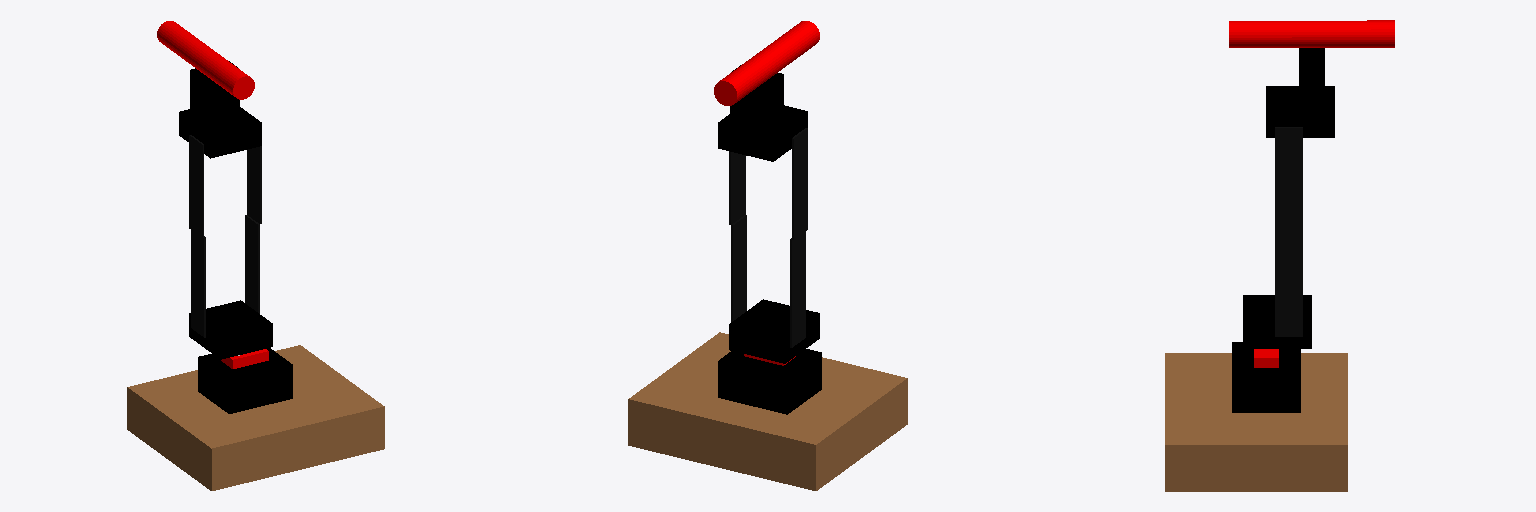
robot.urdf — arthrobot:
<?xml version="1.0"?>
<robot name = "arthrobot">

<!-- This is the first link: empty link specifying the world -->
<link name="world"></link>

<!--This is the joint that links the robot's base to the world frame -->
<joint name="world_base_joint" type="fixed">
    <origin xyz="0.0 0.0 0.0" rpy="0.0 0.0 0.0"/>
    <parent link="world"/>
    <child link="base_link"/>
</joint>
    
<!-- The base link (wooden frame and the metalic support)-->
<link name="base_link">
    <visual>
        <origin xyz="0.0 0.0 0.0225" rpy="0.0 0.0 0.0"/>
        <geometry>
            <box size="0.19 0.16 0.045"/>
        </geometry>
        <material name="wood">
            <color rgba="0.64 0.454 0.286 1.0"/>
        </material>
    </visual>
    <collision>
        <origin xyz="0.0 0.0 0.00225" rpy="0.0 0.0 0.0"/>
        <geometry>
            <box size="0.19 0.16 0.045"/>
        </geometry>
    </collision>

     <visual>
        <origin xyz="-0.007 0.0085 0.063" rpy="0.0 0.0 0.0"/>
        <geometry>
            <box size="0.07 0.06 0.036"/>
        </geometry>
        <material name="black">
            <color rgba="0.0001 0.0001 0.0001 1.0"/>
        </material>
    </visual>
    <collision>
        <origin xyz="-0.007 0.0085 0.063" rpy="0.0 0.0 0.0"/>
        <geometry>
            <box size="0.07 0.06 0.036"/>
        </geometry>
    </collision>
</link>

<!-- Joint that attaches the base with motor 1-->
<joint name="base_motor1_joint" type="fixed">
    <origin xyz="-0.007 0.0085 0.081" rpy="0.0 0.0 0.0"/>
    <parent link="base_link"/>
    <child link="motor1_link"/>
</joint>

<!--Motor 1 link-->
<link name="motor1_link">
    <visual>
        <origin xyz="0.0 0.0 0.005" rpy="0.0 0.0 0.0"/>
        <geometry>
            <box size="0.04 0.022 0.01"/>
        </geometry>
        <material name="red">
            <color rgba="1.0 0.0 0.0 1.0"/>
        </material>
    </visual>
    <collision>
        <origin xyz="0.0 0.0 0.005" rpy="0.0 0.0 0.0"/>
        <geometry>
            <box size="0.04 0.022 0.01"/>
        </geometry>
    </collision>

    <visual>
        <origin xyz="-0.01 0.0 0.014" rpy="0.0 0.0 0.0"/>
        <geometry>
            <cylinder radius="0.006" length="0.008"/>
        </geometry>
        <material name="white">
            <color rgba="1.0 1.0 1.0 1.0"/>
        </material>
    </visual>
    <collision>
        <origin xyz="-0.01 0.0 0.004" rpy="0.0 0.0 0.0"/>
        <geometry>
            <cylinder radius="0.006" length="0.008"/>
        </geometry>
    </collision>
</link>

<!--Joint between motor 1 and motor 2-->
<joint name="motor1_motor2_joint" type="revolute">
    <origin xyz="-0.01 0.0 0.018" rpy="0.0 0.0 0.0"/>
    <parent link="motor1_link"/>
    <child link="motor2_link"/>
    <axis xyz="0.0 0.0 1.0"/>
    <limit lower="-3.1415" upper="3.1415" effort="100" velocity="80"/>
</joint>

<!--Motor 2 link-->
<link name="motor2_link">
    <visual>
        <origin xyz="0.0 0.01 0.0125" rpy="0.0 0.0 0.0"/>
        <geometry>
            <box size="0.057 0.06 0.025"/>
        </geometry>
        <material name="black">
            <color rgba="0.0 0.0 0.0 1.0"/>
        </material>
    </visual>
    <collision>
        <origin xyz="0.0 0.01 0.0125" rpy="0.0 0.0 0.0"/>
        <geometry>
            <box size="0.057 0.06 0.025"/>
        </geometry>
    </collision>
</link>

<!--Joint between motor 2 and bar 1-->
<joint name="motor2_bar1_joint" type="revolute">
    <origin xyz="-0.0285 0.02 0.0125" rpy="0.0 0.0 0.0"/>
    <parent link="motor2_link"/>
    <child link="bar1_link"/>
    <axis xyz="-1.0 0.0 0.0"/>
    <limit lower="-3.1415" upper="3.1415" effort="100" velocity="80"/>
</joint>

<!--bar 1 link-->
<link name="bar1_link">
    <visual>
        <origin xyz="-0.001 0.0 0.0525" rpy="0.0 0.0 0.0"/>
        <geometry>
            <box size="0.002 0.025 0.105"/>
        </geometry>
        <material name="black">
            <color rgba="0.09 0.09 0.09 1.0"/>
        </material>
    </visual>
    <collision>
        <origin xyz="-0.001 0.0 0.0525" rpy="0.0 0.0 0.0"/>
        <geometry>
            <box size="0.002 0.025 0.105"/>
        </geometry>
    </collision>

    <visual>
        <origin xyz="0.058 0.0 0.0525" rpy="0.0 0.0 0.0"/>
        <geometry>
            <box size="0.002 0.025 0.105"/>
        </geometry>
        <material name="black">
            <color rgba="0.09 0.09 0.09 1.0"/>
        </material>
    </visual>
    <collision>
        <origin xyz="-0.001 0.0 0.0525" rpy="0.0 0.0 0.0"/>
        <geometry>
            <box size="0.002 0.025 0.105"/>
        </geometry>
    </collision>
</link>

<!--joint between bar 1 and bar 2-->
<joint name="bar1_bar2_joint" type="revolute">
    <origin xyz="-0.002 0.0 0.105" rpy="0.0 0.0 0.0"/>
    <parent link="bar1_link"/>
    <child link="bar2_link"/>
    <axis xyz="-1.0 0.0 0.0"/>
    <limit lower="-3.1415" upper="3.1415" effort="100" velocity="80"/>
</joint>

<!--bar 2 link-->
<link name="bar2_link">
    <visual>
        <origin xyz="-0.001 0.0 0.049" rpy="0.0 0.0 0.0"/>
        <geometry>
            <box size="0.002 0.025 0.098"/>
        </geometry>
        <material name="black">
            <color rgba="0.09 0.09 0.09 1.0"/>
        </material>
    </visual>
    <collision>
        <origin xyz="-0.001 0.0 0.049" rpy="0.0 0.0 0.0"/>
        <geometry>
            <box size="0.002 0.025 0.098"/>
        </geometry>
    </collision>

    <visual>
        <origin xyz="0.062 0.0 0.049" rpy="0.0 0.0 0.0"/>
        <geometry>
            <box size="0.002 0.025 0.098"/>
        </geometry>
        <material name="black">
            <color rgba="0.09 0.09 0.09 1.0"/>
        </material>
    </visual>
    <collision>
        <origin xyz="0.062 0.0 0.049" rpy="0.0 0.0 0.0"/>
        <geometry>
            <box size="0.002 0.025 0.098"/>
        </geometry>
    </collision>
</link>

<!--joint bar 2 motor 3-->
<joint name="bar2_motor3_joint" type="revolute">
    <origin xyz="0.002 0.0 0.098" rpy="0.0 0.0 0.0"/>
    <parent link="bar2_link"/>
    <child link="motor3_link"/>
    <axis xyz="-1.0 0.0 0.0"/>
    <limit lower="-3.1415" upper="3.1415" effort="100" velocity="80"/>
</joint>

<!--motor 3 link-->
<link name="motor3_link">
    <visual>
        <origin xyz="0.0285 0.01 0.0" rpy="0.0 0.0 0.0"/>
        <geometry>
            <box size="0.056 0.06 0.025"/>
        </geometry>
        <material name="black">
            <color rgba="0.0 0.0 0.0 1.0"/>
        </material>
    </visual>
    <collision>
        <origin xyz="0.0285 0.01 0.0" rpy="0.0 0.0 0.0"/>
        <geometry>
            <box size="0.056 0.06 0.025"/>
        </geometry>
    </collision>
</link>

<!--motor 3 motor 4 joint-->
<joint name="motor3_motor4_joint" type="fixed">
    <origin xyz="0.0285 0.02 0.0125" rpy="0.0 0.0 0.0"/>
    <parent link="motor3_link"/>
    <child link="motor4_link"/>
</joint>

<!-- motor 4 link-->
<link name="motor4_link">
    <visual>
        <origin xyz="0.0 0.0 0.023" rpy="0.0 0.0 0.0"/>
        <geometry>
            <box size="0.042 0.022 0.046"/>
        </geometry>
        <material name="black">
            <color rgba="0.0 0.0 0.0 1.0"/>
        </material>
    </visual>
    <collision>
        <origin xyz="0.0 0.0 0.023" rpy="0.0 0.0 0.0"/>
        <geometry>
            <box size="0.042 0.022 0.046"/>
        </geometry>
    </collision>
</link>

<!--Joint motor 4 ee link-->
<joint name="motor4_ee_joint" type="revolute">
    <origin xyz="-0.01 0.0 0.046" rpy="0.0 0.0 0.0"/>
    <parent link="motor4_link"/>
    <child link="ee_link"/>
    <axis xyz="0.0 0.0 1.0"/>
    <limit lower="-3.1415" upper="3.1415" effort="100" velocity="80"/>
</joint>


<!-- ee link (end effector)-->
<link name="ee_link">
    <visual>
        <origin xyz="0.0 0.0 0.012" rpy="-1.57 0.0 0.0"/>
        <geometry>
            <cylinder radius="0.012" length="0.145"/>
        </geometry>
        <material name="black">
            <color rgba="1.0 0.0 0.0 1.0"/>
        </material>
    </visual>
    <collision>
        <origin xyz="0.0 0.0 0.012" rpy="-1.57 0.0 0.0"/>
        <geometry>
            <cylinder radius="0.012" length="0.145"/>
        </geometry>
    </collision>
</link>

</robot>



--- Render facts (derived) ---
The picture shows the robot from 3 angles, left to right: view 1: azimuth 30°, elevation 25°; view 2: azimuth 150°, elevation 25°; view 3: azimuth 270°, elevation 25°; orthographic projection.
Robot: arthrobot — 9 links, 8 joints (5 revolute, 3 fixed); root link world; default pose: every joint at zero.
Visible links, largest first — view 1: base_link, motor2_link, bar1_link, ee_link, motor3_link, bar2_link, motor4_link, motor1_link; view 2: base_link, motor2_link, bar1_link, ee_link, motor3_link, bar2_link, motor4_link; view 3: base_link, ee_link, bar1_link, bar2_link, motor3_link, motor2_link, motor4_link.
Boxes of the visible links, <box> form: base_link: <box>127,345,384,490</box>; motor2_link: <box>189,300,272,359</box>; bar1_link: <box>191,215,259,337</box>; ee_link: <box>157,21,254,99</box>; motor3_link: <box>179,107,261,158</box>; bar2_link: <box>189,135,261,237</box>; motor4_link: <box>190,61,239,121</box>; motor1_link: <box>221,349,268,368</box>; base_link: <box>628,332,907,490</box>; motor2_link: <box>729,299,819,363</box>; bar1_link: <box>731,215,805,347</box>; ee_link: <box>714,21,819,105</box>; motor3_link: <box>718,105,807,161</box>; bar2_link: <box>729,128,807,239</box>; motor4_link: <box>730,65,783,130</box>; base_link: <box>1165,342,1347,491</box>; ee_link: <box>1229,20,1394,47</box>; bar1_link: <box>1275,229,1302,336</box>; bar2_link: <box>1275,127,1302,228</box>; motor3_link: <box>1266,86,1334,137</box>; motor2_link: <box>1243,295,1311,348</box>; motor4_link: <box>1299,48,1324,108</box>.
Bounding box of the posed robot: 0.19 × 0.201 × 0.3971 m (x, y, z).
Geometry: primitives only (box / cylinder / sphere), no mesh files.